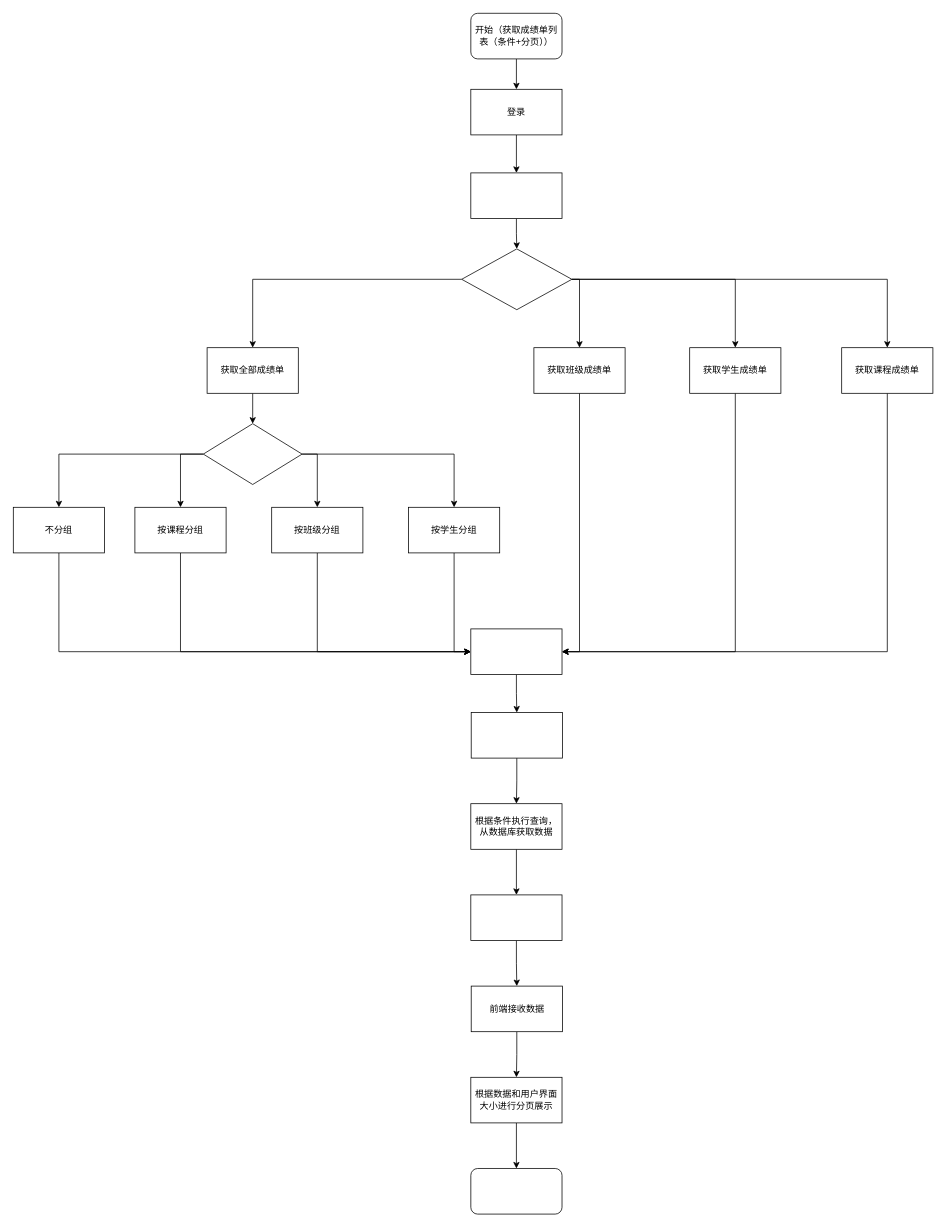
This 946x1227 diagram has some shape labels left out. The box of each missing label's shape, as (x1, y1, x2, y2) in pixels:
向后端发送获取成绩单请求: (470, 712, 562, 758)
将获取方式（和分组方式）作为查询条件: (470, 628, 562, 674)
组装好数据返回前端: (470, 894, 562, 940)
结束: (470, 1168, 562, 1214)
获取成绩单列表: (470, 172, 562, 218)
选择分组方式: (203, 423, 302, 484)
选择获取成绩单方式: (461, 248, 572, 310)
